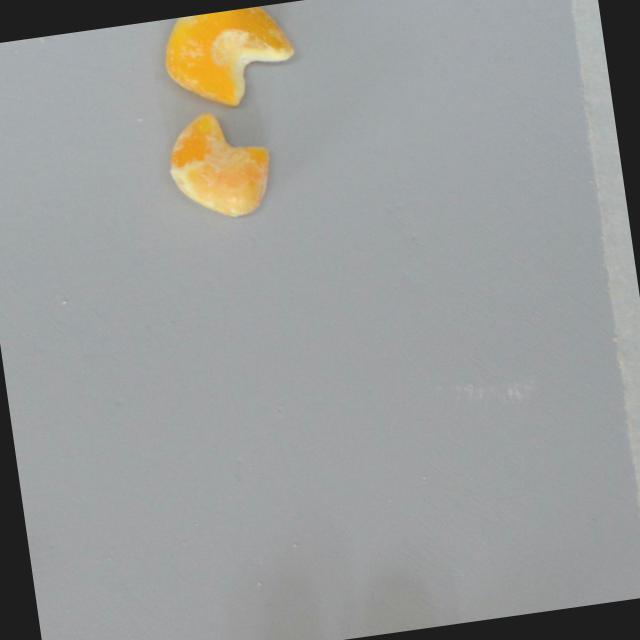pelicula: (160, 1, 301, 113), (162, 102, 277, 223)
